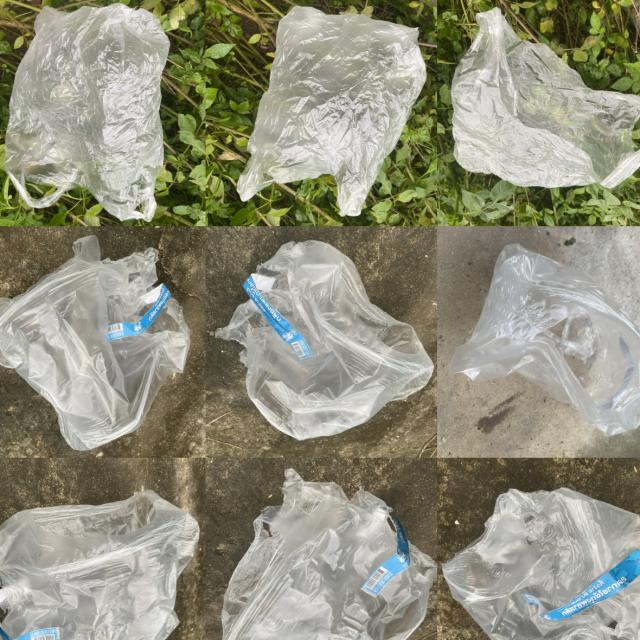plastik: (217, 241, 433, 440), (0, 235, 190, 451), (237, 7, 426, 216), (222, 470, 437, 640), (450, 244, 640, 436), (4, 4, 169, 221), (452, 8, 640, 187), (442, 488, 640, 640), (0, 491, 199, 640)
